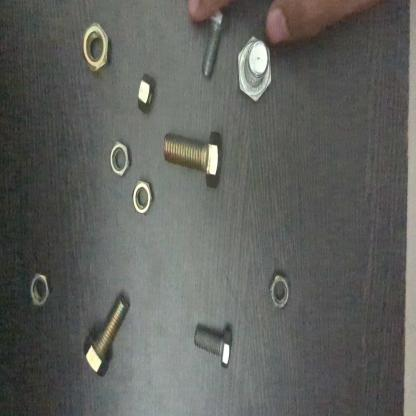Bolts: (82, 285, 132, 380), (162, 122, 224, 188), (234, 33, 279, 104), (191, 321, 247, 368), (200, 6, 226, 82)
NUTS: (72, 19, 119, 79), (260, 268, 295, 316), (26, 262, 54, 315), (131, 70, 161, 119), (104, 138, 132, 181), (130, 177, 156, 221)
